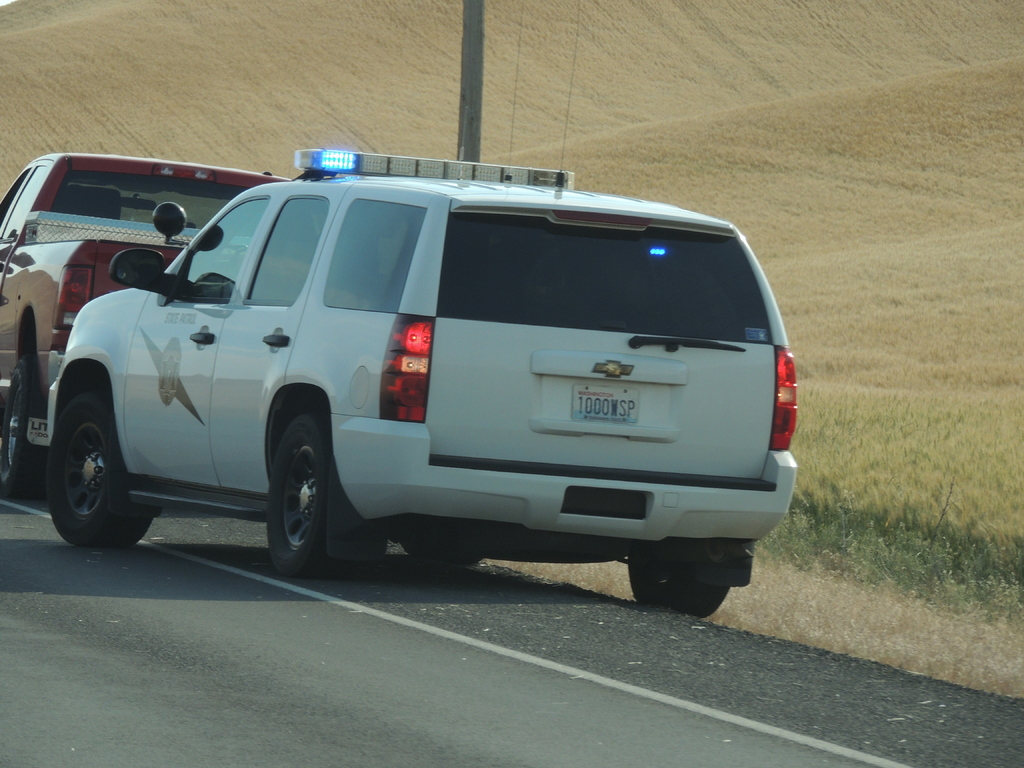license plate: (573, 387, 641, 425)
